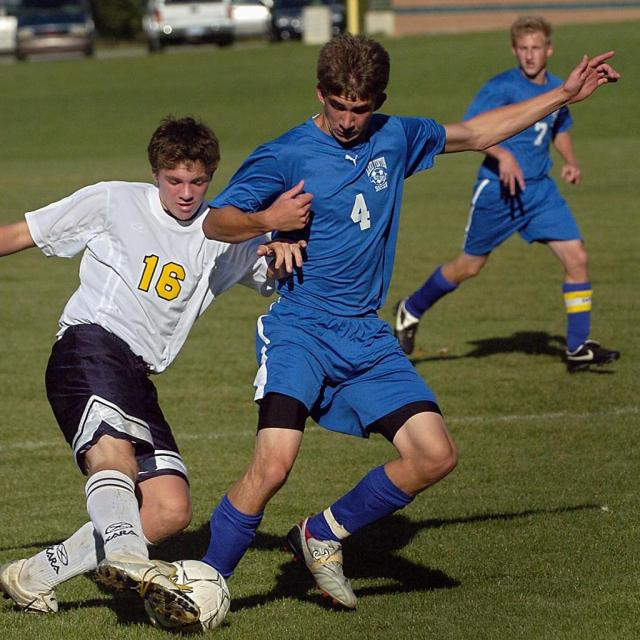Face: (150, 134, 215, 229), (314, 58, 379, 135), (509, 15, 553, 84)
